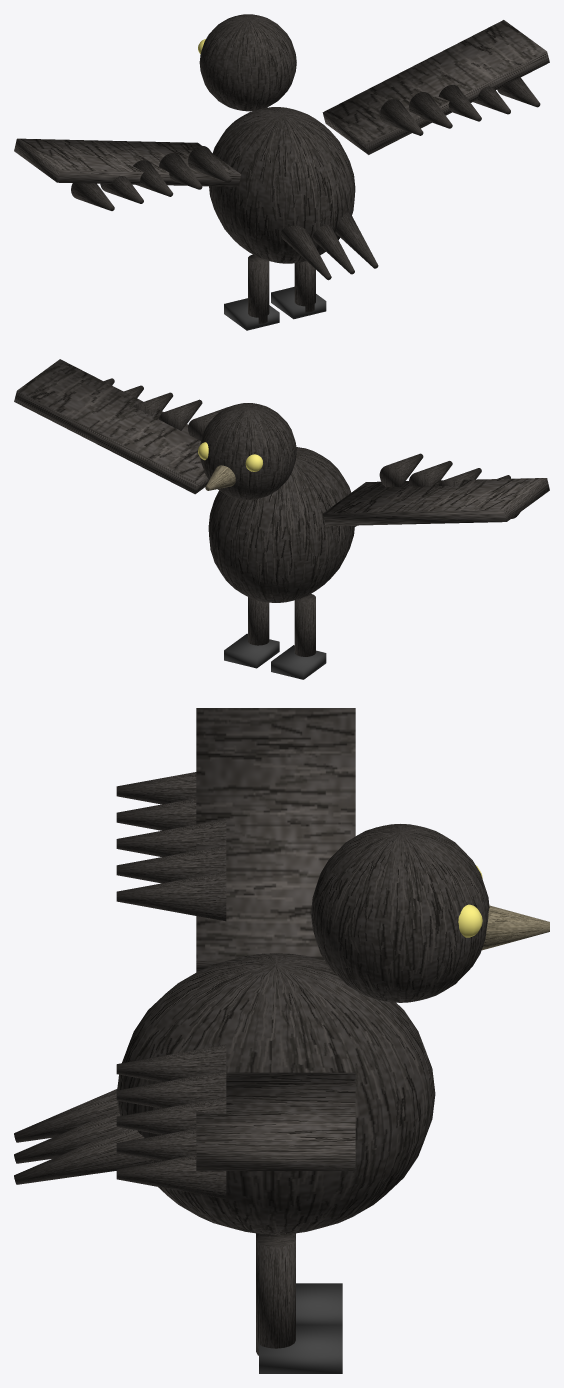
The model's file is storm-crow.glb.
3 renders of one model, top to bottom at view 1: azimuth 30°, elevation 25°; view 2: azimuth 150°, elevation 25°; view 3: azimuth 270°, elevation 25°, orthographic. The views are drawn at different scales.
Visible parts, largest first — view 1: Body, Wing.001, Head, Wing, Leg, TailFeather, Leg.001, TailFeather.002, Foot, Foot.001, Feather.005, Feather (+9 smaller); view 2: Body, Wing.001, Wing, Head, Leg, Foot.001, Foot, Leg.001, Feather, Feather.006, Feather.001, Beak (+2 smaller); view 3: Body, Wing, Head, Wing.001, Leg.001, Feather, Foot.001, TailFeather.002, Feather.009, Feather.001, Feather.005, Feather.006 (+9 smaller).
Part boxes in pixels (x1,y1,x2,y2): Body: (209, 107, 355, 263); Wing.001: (322, 20, 549, 154); Head: (199, 14, 296, 111); Wing: (14, 138, 241, 186); Leg: (248, 254, 269, 323); TailFeather: (280, 225, 331, 280); Leg.001: (294, 261, 315, 312); TailFeather.002: (335, 211, 378, 268); Foot: (224, 298, 279, 330); Foot.001: (271, 286, 326, 319); Feather.005: (379, 99, 423, 135); Feather: (188, 146, 231, 182); Body: (208, 447, 354, 602); Wing.001: (14, 359, 208, 494); Wing: (323, 478, 549, 526); Head: (200, 403, 296, 499); Leg: (294, 594, 315, 656); Foot.001: (224, 633, 279, 668); Foot: (271, 645, 326, 679); Leg.001: (248, 597, 269, 645); Feather: (379, 453, 423, 487); Feather.006: (159, 399, 202, 430); Feather.001: (409, 461, 452, 486); Beak: (205, 465, 235, 490); Body: (117, 953, 435, 1234); Wing: (196, 708, 355, 972); Head: (311, 824, 489, 1002); Wing.001: (196, 1072, 355, 1170); Leg.001: (256, 1234, 295, 1355); Feather: (116, 872, 226, 921); Foot.001: (259, 1325, 342, 1373); TailFeather.002: (14, 1128, 153, 1184); Feather.009: (116, 1155, 226, 1198); Feather.001: (116, 845, 226, 883); Feather.005: (116, 1044, 226, 1082); Feather.006: (116, 1070, 226, 1108).
Bounding box in the file's own units: 1.88 × 1 × 0.9601.
6 materials, 4 textured.
